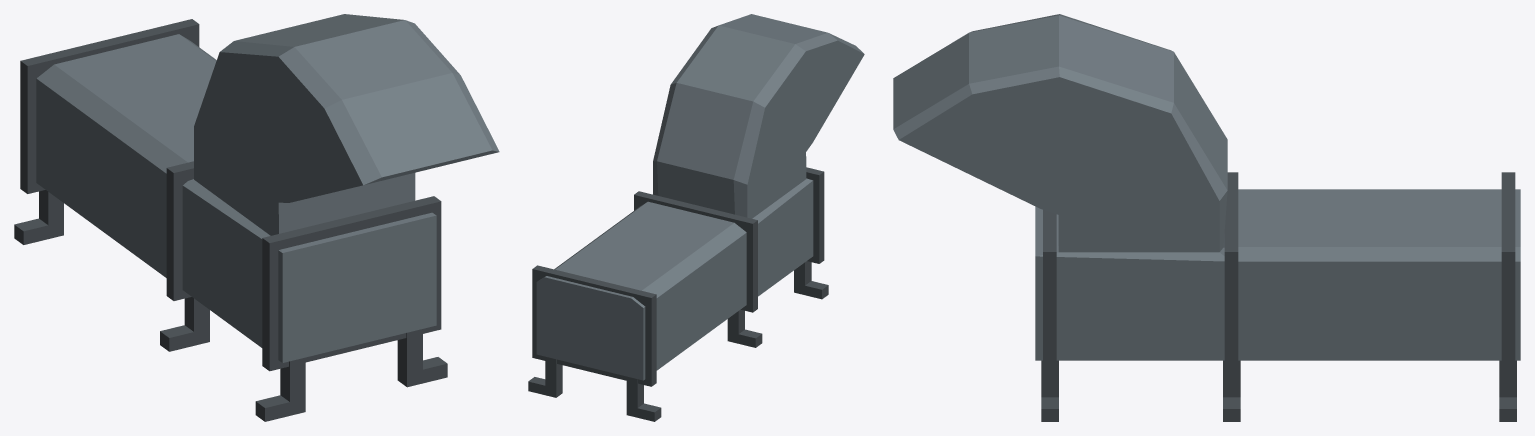
File: SM_Prop_Vents_Exhaust_01.fbx
3 renders of one model, left to right at view 1: azimuth 30°, elevation 25°; view 2: azimuth 150°, elevation 25°; view 3: azimuth 270°, elevation 25°, orthographic. The views are drawn at different scales.
Parts seen in each view (by area): view 1: SM_Prop_Vents_Exhaust_01; view 2: SM_Prop_Vents_Exhaust_01; view 3: SM_Prop_Vents_Exhaust_01.
Part boxes in pixels (x1=…): SM_Prop_Vents_Exhaust_01: x1=14, y1=14, x2=499, y2=421; SM_Prop_Vents_Exhaust_01: x1=528, y1=14, x2=864, y2=421; SM_Prop_Vents_Exhaust_01: x1=893, y1=14, x2=1520, y2=421.
Bounding box in the file's own units: 86.81 × 163 × 273.
Materials: 1 (1 with a texture image).
